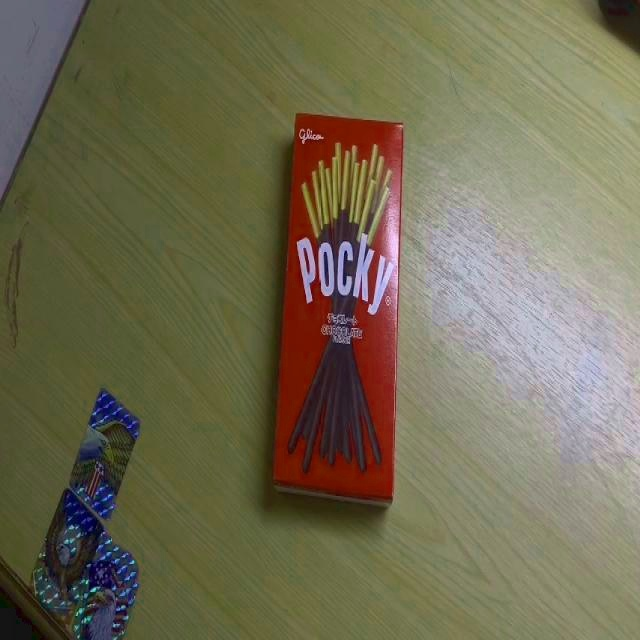Pocky: (269, 112, 405, 510)
